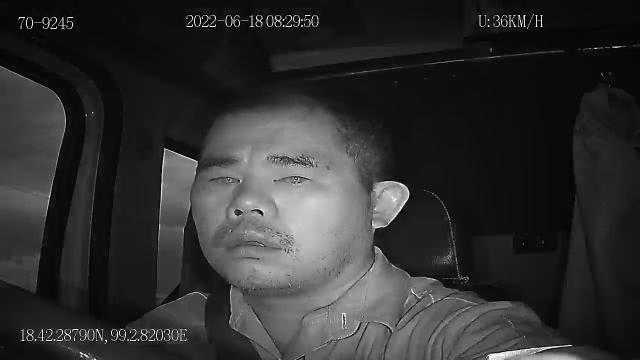SafeDriving: (268, 162, 320, 192), (202, 161, 248, 192)
Seatbelt: (190, 274, 264, 360)
